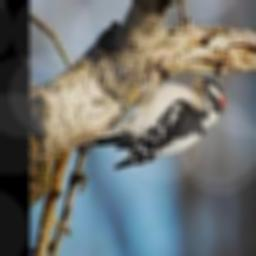Woodpecker: (77, 70, 224, 168)
